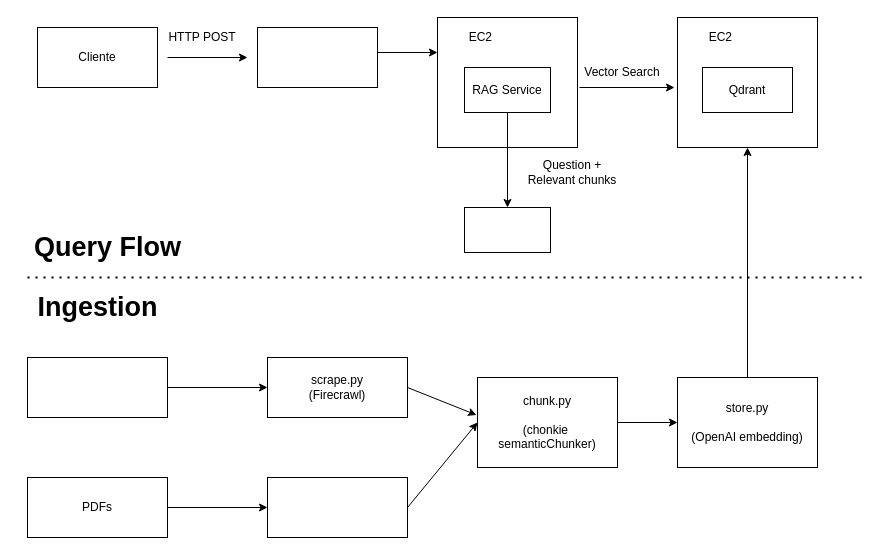
This 886x555 diagram has some shape labels left out. Each missing label, with the centre of its shape:
"API Gateway" belongs at point (317, 57).
"External LLM" belongs at point (507, 229).
"extract.py (docling)" belongs at point (337, 507).
"Web (Url)" belongs at point (97, 387).
